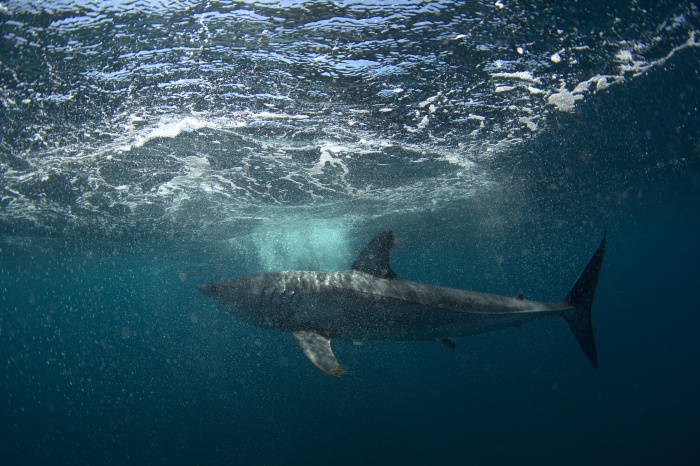Mako: (176, 227, 618, 390)
